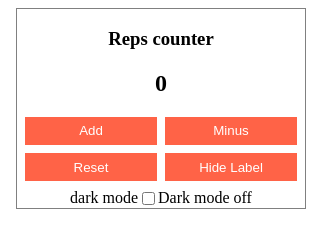
Test: should hide title if i press Hidelabel
What coordinates should you click on to do the following:
click the button "Hide Label"
I would click on:
 (231, 167)
Its box is [165, 153, 297, 181].
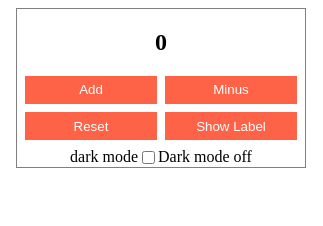
Check: the heading "Reps counter" is gone
